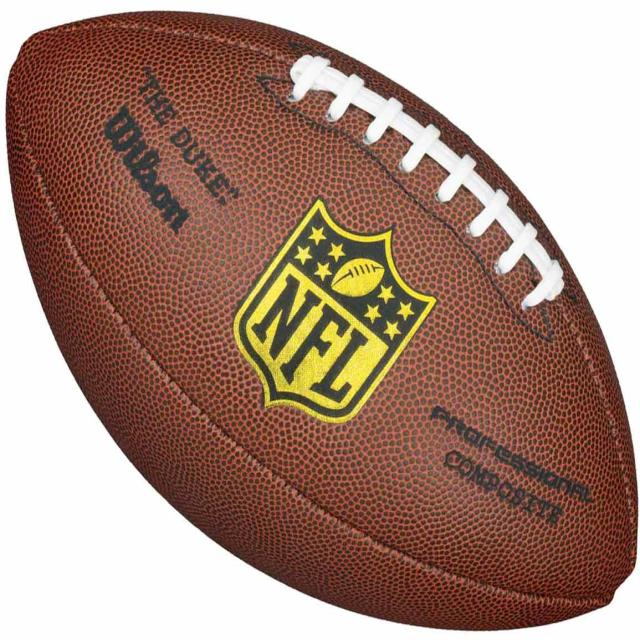ball: (7, 9, 636, 631)
